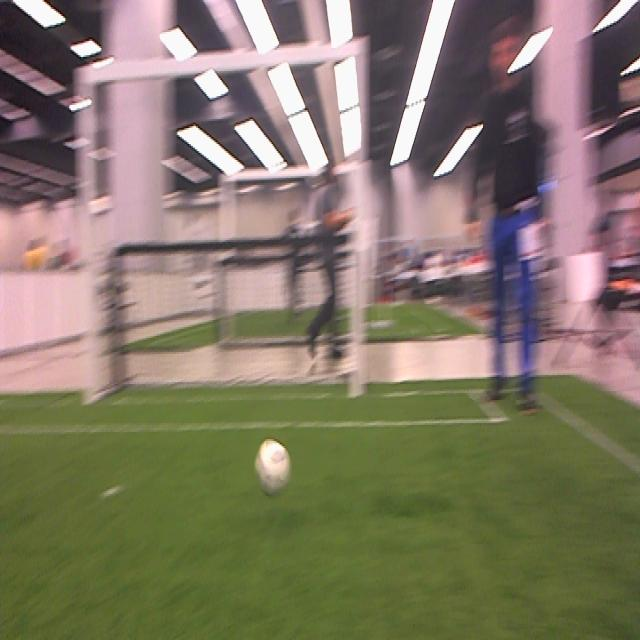ball: (257, 437, 288, 489)
goalpost: (76, 64, 95, 404), (352, 41, 369, 395)
